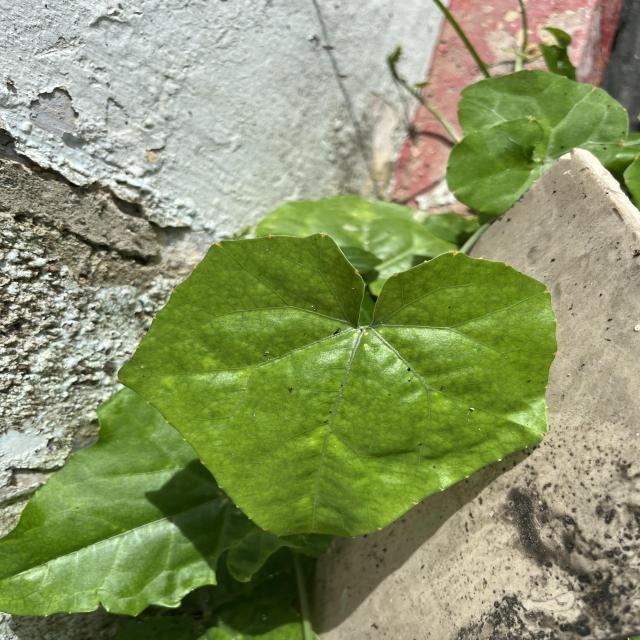Coccinia grandis: (115, 229, 564, 540)
